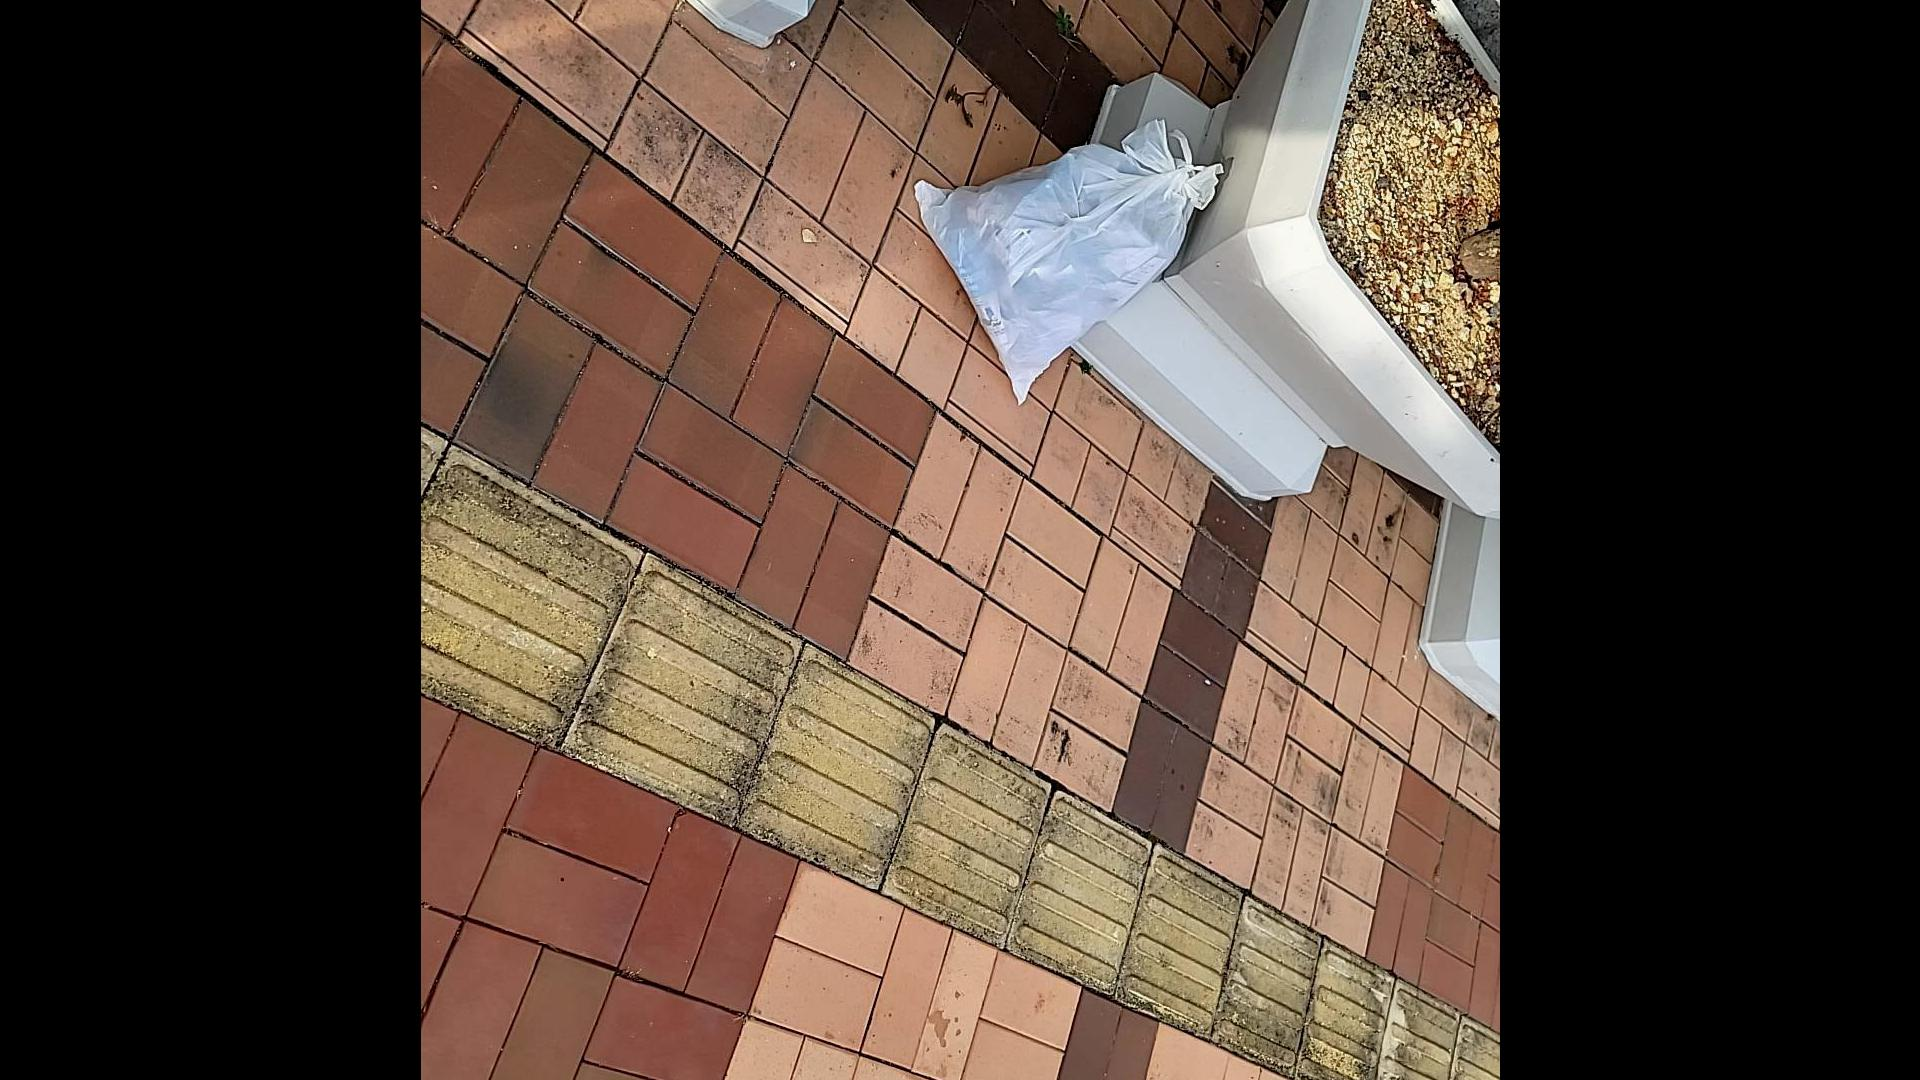white_bag: (905, 108, 1226, 425)
